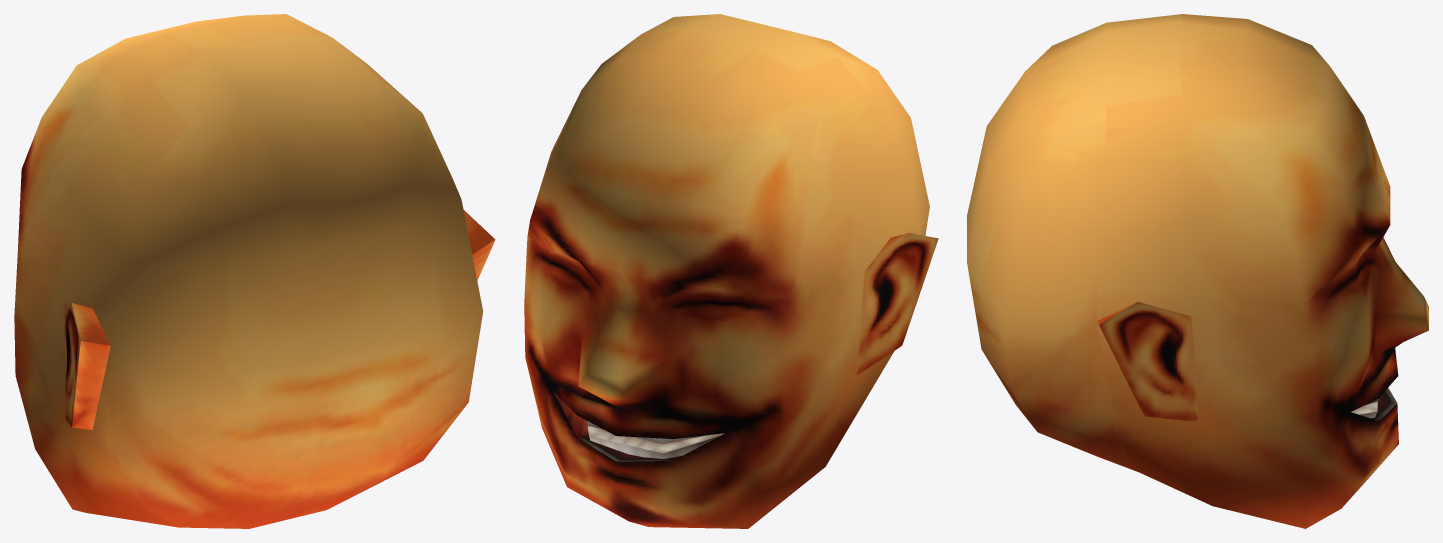
File: g_axe.ico.obj
3 views of the same model, side by side, from view 1: azimuth 30°, elevation 25°; view 2: azimuth 150°, elevation 25°; view 3: azimuth 270°, elevation 25° (orthographic). The views are drawn at different scales.
Bounding box in the file's own units: 3.19 × 3.7 × 3.4.
Materials: 1 (1 with a texture image).
